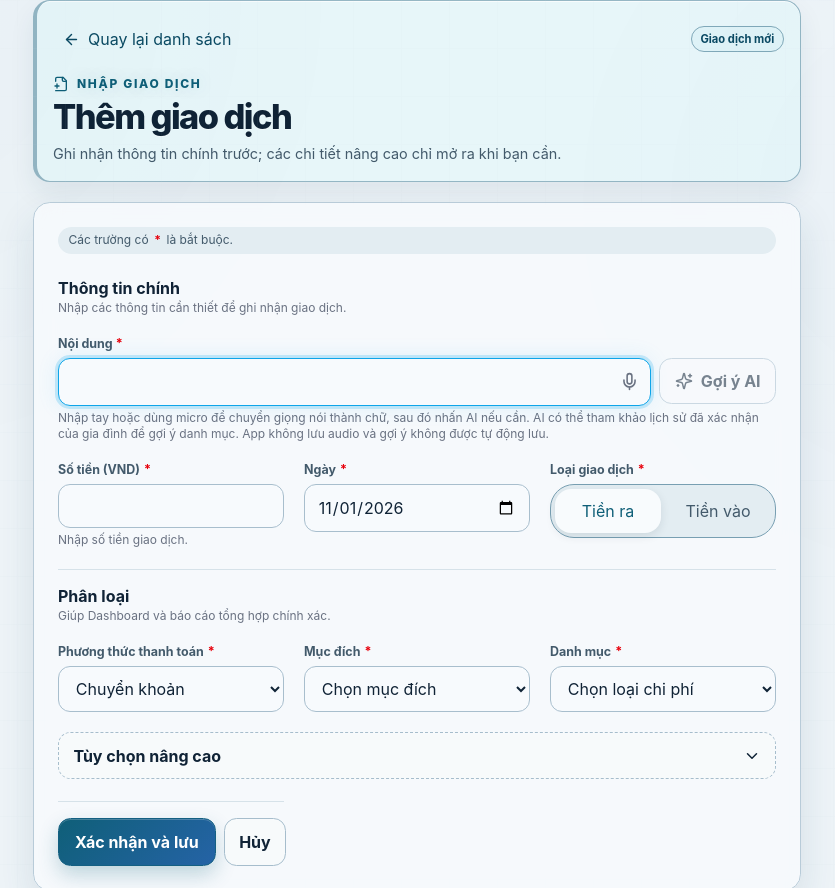
Scenario: Form giao dịch hợp nhất › debounce autosave và báo rõ khi bản nháp đã được lưu
Type "Mua sữa" into the field labelled "Nội dung *".
click(355, 382); type("Mua sữa")  # box top-left (58, 358), bottom-right (651, 406)
Wait 350 ms
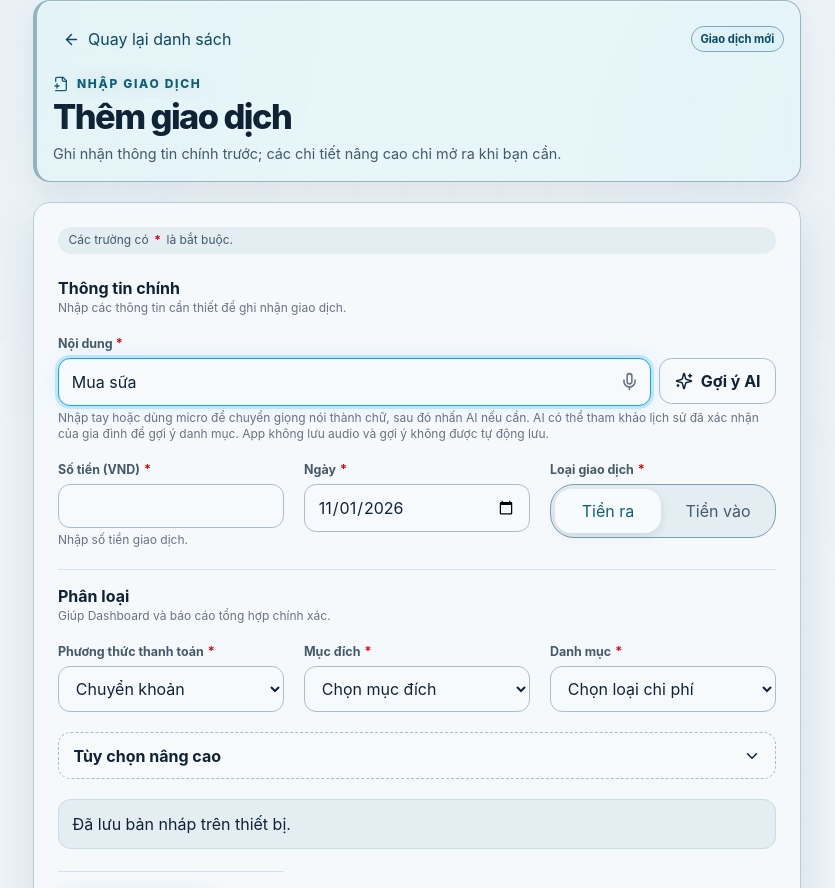
Expected: the text "Đã lưu bản nháp trên thiết bị." is shown, top-left (58, 799), bottom-right (776, 849)
